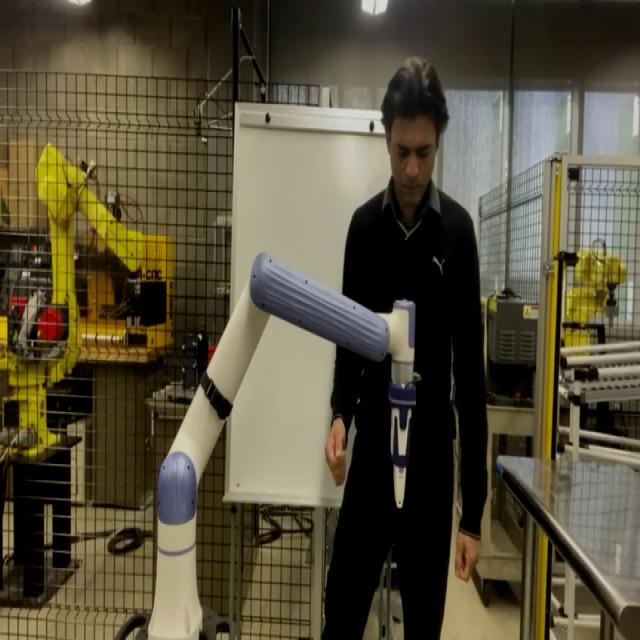robot: (114, 250, 420, 638)
